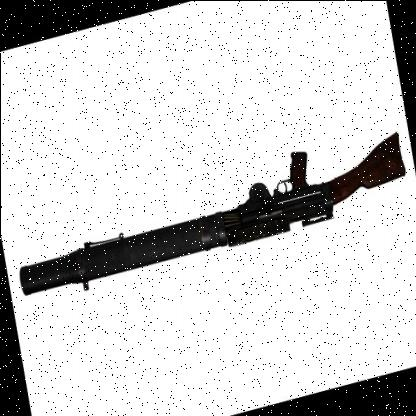rifle: (1, 116, 414, 305)
